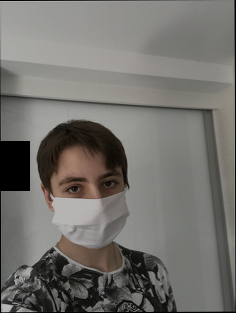with_mask: (49, 166, 130, 249)
